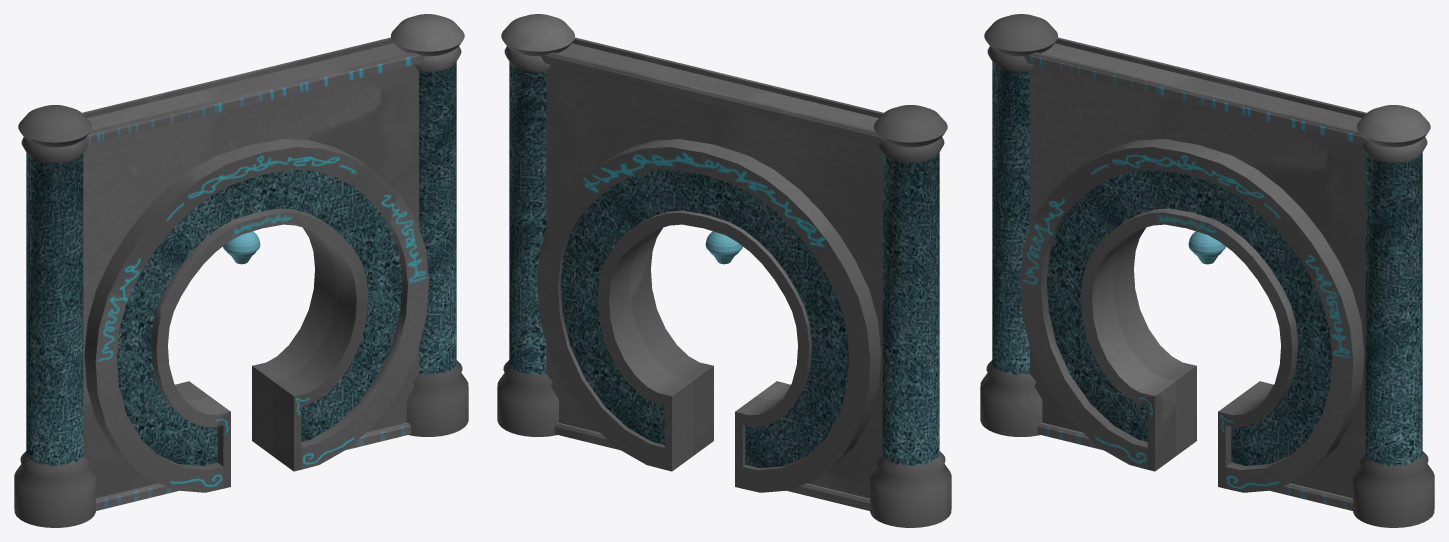
File: portal.gltf
The picture shows the model from 3 angles, left to right: view 1: azimuth 30°, elevation 25°; view 2: azimuth 150°, elevation 25°; view 3: azimuth 330°, elevation 25°; orthographic projection.
Parts seen in each view (by area): view 1: Portal; view 2: Portal; view 3: Portal.
Boxes of the visible parts, x1,y1,x2,y2 form: Portal: (14, 14, 468, 527); Portal: (497, 14, 951, 527); Portal: (980, 14, 1434, 527).
Size of the model in its own units: 17.63 by 15.21 by 2.88.
1 material, 1 textured.
